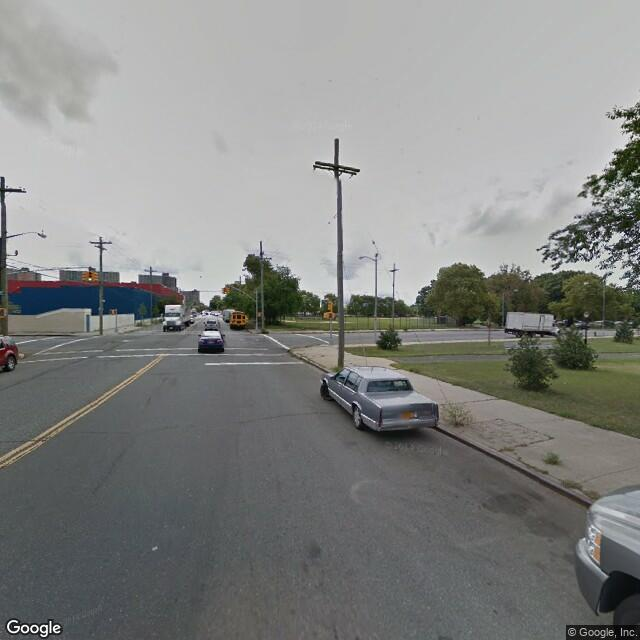litter: (144, 538, 159, 552)
